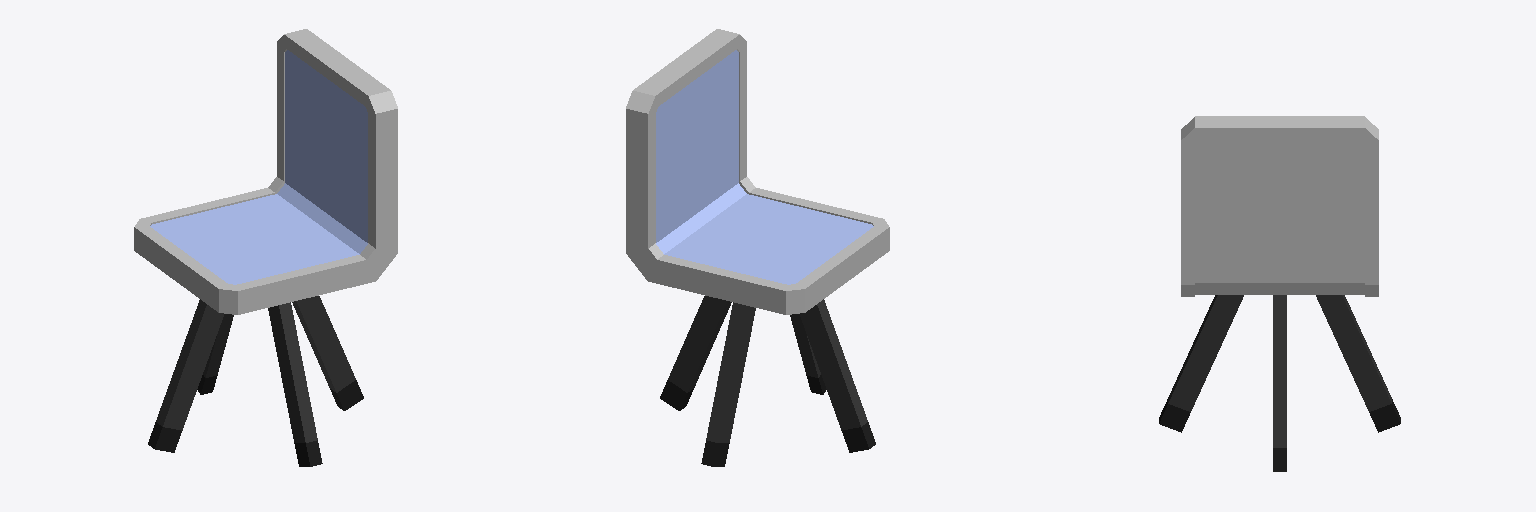
3 views of the same model, side by side, from view 1: azimuth 30°, elevation 25°; view 2: azimuth 150°, elevation 25°; view 3: azimuth 270°, elevation 25° (orthographic).
Visible parts, largest first — view 1: cube.120, cube.118, cube.109, cube.117, cube.119, cube.110, cube.107, cube.111, cube.114, cube.122, cube.123, cube.124 (+3 smaller); view 2: cube.120, cube.118, cube.109, cube.123, cube.124, cube.108, cube.107, cube.111, cube.114, cube.122, cube.117, cube.119 (+4 smaller); view 3: cube.120, cube.114, cube.108, cube.110, cube.107, cube.122, cube.119, cube.124.
Boxes of the visible parts, box(x1,y1,x2,y2) form: cube.120: box(285, 50, 367, 242); cube.118: box(150, 194, 359, 284); cube.109: box(148, 299, 223, 452); cube.117: box(237, 255, 375, 314); cube.119: box(368, 109, 397, 257); cube.110: box(268, 302, 322, 466); cube.107: box(292, 296, 363, 410); cube.111: box(134, 224, 227, 312); cube.114: box(284, 29, 390, 107); cube.122: box(277, 183, 367, 253); cube.123: box(140, 188, 277, 223); cube.124: box(277, 43, 284, 183); cube.120: box(656, 50, 738, 242); cube.118: box(664, 194, 873, 284); cube.109: box(800, 299, 875, 452); cube.123: box(648, 255, 786, 314); cube.124: box(626, 109, 655, 257); cube.108: box(701, 302, 755, 466); cube.107: box(660, 296, 731, 410); cube.111: box(796, 224, 889, 312); cube.114: box(633, 29, 739, 105); cube.122: box(656, 183, 746, 253); cube.117: box(746, 188, 882, 223); cube.119: box(739, 43, 746, 183); cube.120: box(1195, 140, 1364, 282); cube.114: box(1195, 116, 1364, 139); cube.108: box(1316, 295, 1400, 432); cube.110: box(1159, 295, 1243, 432); cube.107: box(1273, 295, 1286, 471); cube.122: box(1195, 283, 1364, 294); cube.119: box(1181, 140, 1194, 284); cube.124: box(1365, 140, 1378, 284).
Size of the model in its own units: 0.8055 by 1.28 by 0.8055.
Materials: 3 (2 with a texture image).